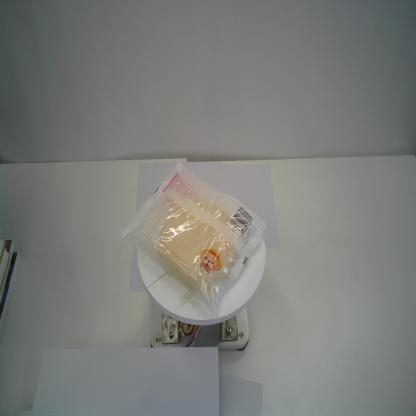Dessert: (117, 159, 267, 321)
